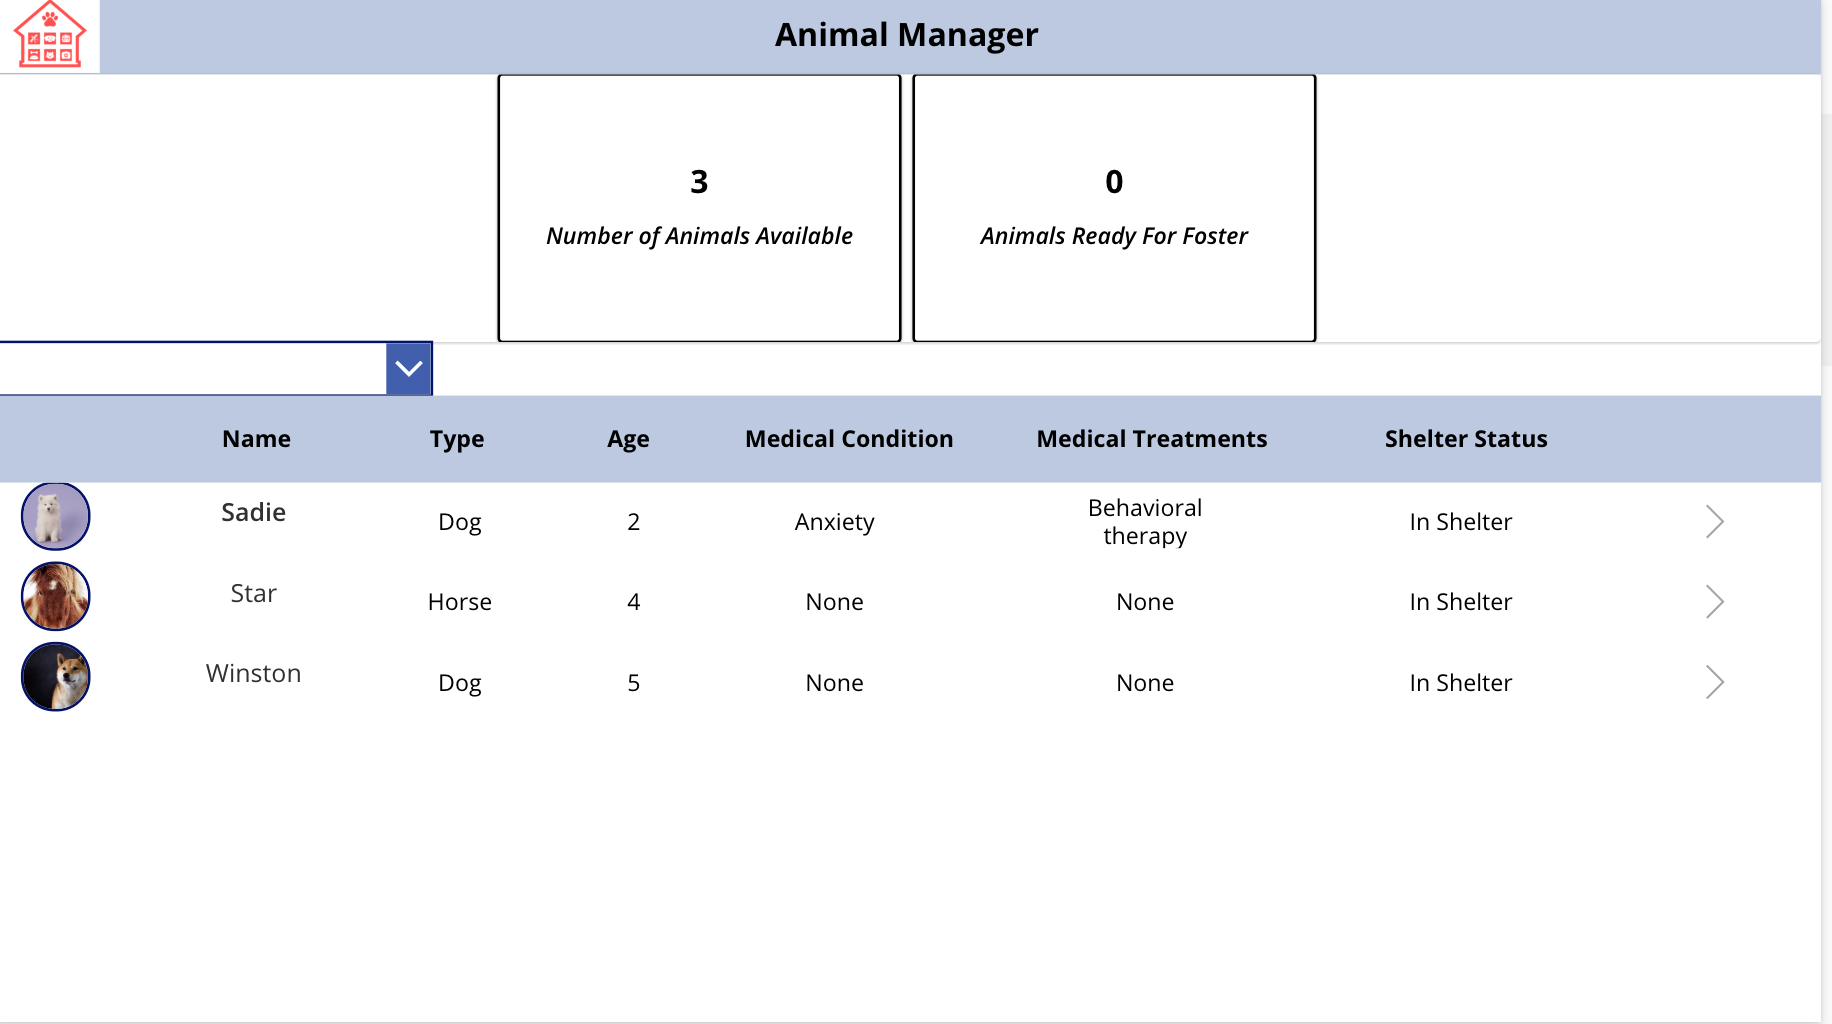

This screenshot's page, from the dashboard's own definition file:
{"tool":"powerbi","page":{"name":"Available Animals","canvas":[1280,720],"ordinal":2},"visuals":[{"type":"textbox","box":[12.9,0,1253.2,56.4],"z":0},{"type":"actionButton","box":[24.7,0,111.6,54],"z":1000},{"type":"tableEx","fields":{"Values":["pc_animal.URL_Model_Driven","pc_shelter.Shelter Name","pc_animal.Name","pc_animal.Type","pc_animal.Age","pc_animal.Sex","pc_animal.Medical conditions","pc_animal.Medical treatments","pc_animal.Shelter Status"]},"box":[287.2,267,978.9,438.2],"z":2000},{"type":"card","fields":{"Values":["MyMeasures.Total Animals Rescued"]},"box":[457.5,90.8,238.2,157.6],"z":3000},{"type":"card","fields":{"Values":["MyMeasures.Animal Ready For Foster"]},"box":[839.6,90.8,239.9,157.6],"z":4000},{"type":"slicer","fields":{"Values":["pc_animal.Shelter Status"]},"box":[13.5,90.3,254.8,167.2],"z":5000}]}

Visuals, with their boxes in screenshot pixels (x1, y1, x2, y2), scaled from the page's 1280x720 canvas onto the 1832x1024 screenshot:
textbox: BBox(18, 0, 1812, 80)
actionButton: BBox(35, 0, 195, 77)
tableEx - pc_animal.URL_Model_Driven x pc_shelter.Shelter Name: BBox(411, 380, 1812, 1003)
card - MyMeasures.Total Animals Rescued: BBox(655, 129, 996, 353)
card - MyMeasures.Animal Ready For Foster: BBox(1202, 129, 1545, 353)
slicer - pc_animal.Shelter Status: BBox(19, 128, 384, 366)
